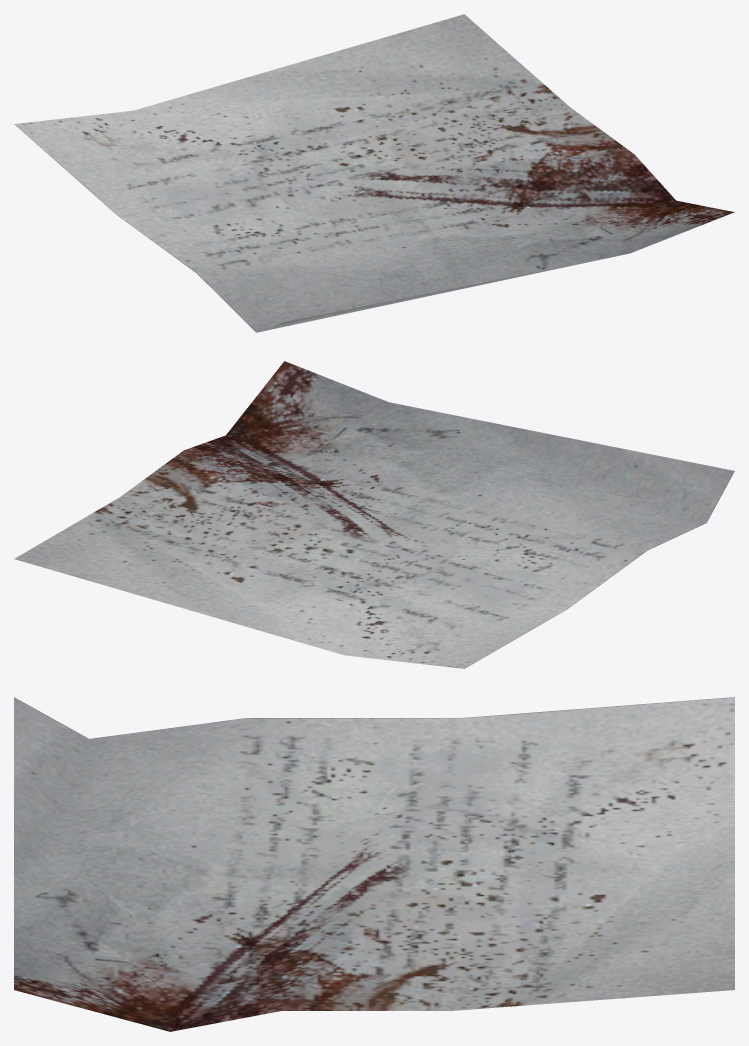
Rendered from sm74_002_rpddocumentblood01a.fbx.
3 renders of one model, top to bottom at view 1: azimuth 30°, elevation 25°; view 2: azimuth 150°, elevation 25°; view 3: azimuth 270°, elevation 25°, orthographic. The views are drawn at different scales.
Visible parts, largest first — view 1: LOD_1_Group_0_Sub_1__sm74_002_RPDDocumentBlood01A_A_Mat__Env; view 2: LOD_1_Group_0_Sub_1__sm74_002_RPDDocumentBlood01A_A_Mat__Env; view 3: LOD_1_Group_0_Sub_1__sm74_002_RPDDocumentBlood01A_A_Mat__Env.
Part boxes in pixels (x1,y1,x2,y2): LOD_1_Group_0_Sub_1__sm74_002_RPDDocumentBlood01A_A_Mat__Env: (14,14,734,332); LOD_1_Group_0_Sub_1__sm74_002_RPDDocumentBlood01A_A_Mat__Env: (14,361,734,668); LOD_1_Group_0_Sub_1__sm74_002_RPDDocumentBlood01A_A_Mat__Env: (14,697,734,1031).
Size of the model in its own units: 0.1706 by 0.0114 by 0.1774.
